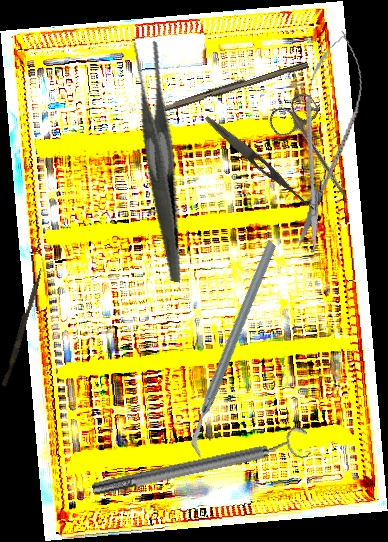Chopper: (124, 238, 345, 459)
Dressing Forceps: (89, 37, 225, 283), (201, 113, 321, 215)
Fixation Ring: (88, 424, 313, 506)
Iris Scissors: (264, 89, 371, 213)
Micro Scissor: (279, 26, 372, 257)
Pusher: (1, 266, 44, 388)
Scalpel Handle: (162, 57, 310, 114)
